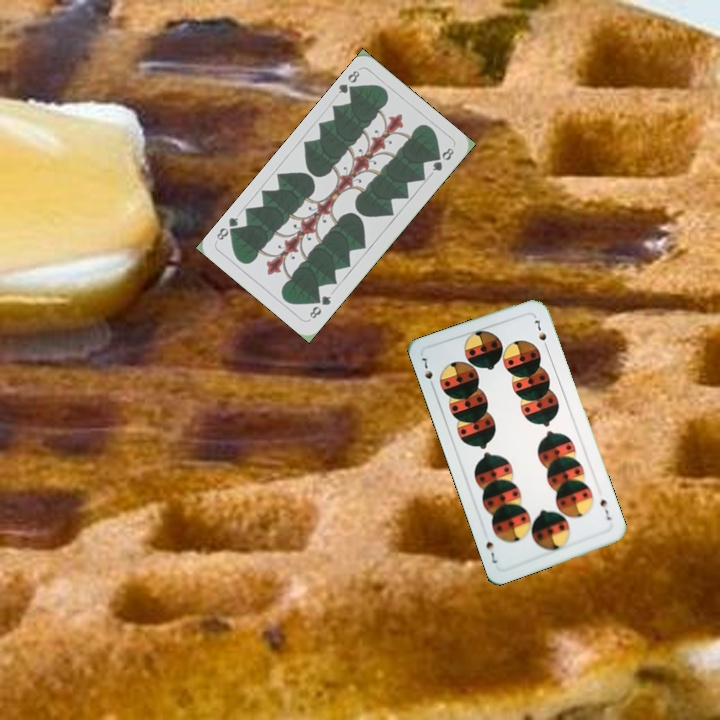G8: (334, 66, 362, 98), (305, 291, 334, 321)
S7: (417, 353, 437, 392), (596, 495, 614, 523)
